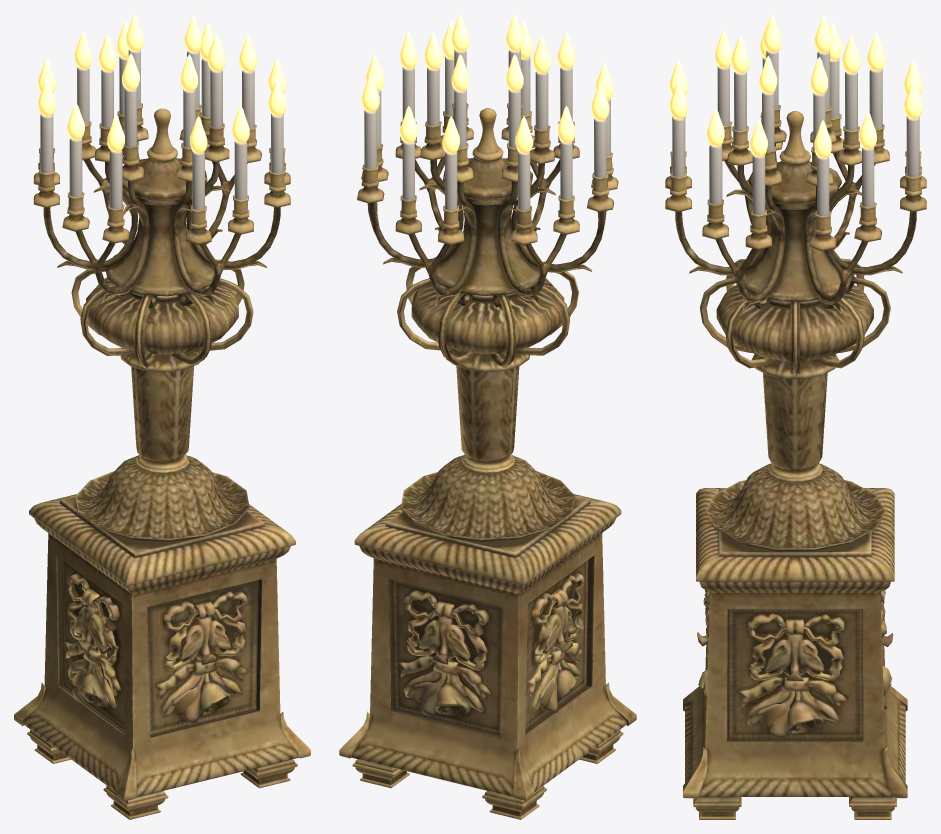
Rendered from tc-mc-titanic_lamp.glb.
The picture shows the model from 3 angles, left to right: view 1: azimuth 30°, elevation 25°; view 2: azimuth 150°, elevation 25°; view 3: azimuth 270°, elevation 25°; orthographic projection.
Parts seen in each view (by area): view 1: Cube.256; view 2: Cube.256; view 3: Cube.256.
Boxes of the visible parts, bbox=[...] form: Cube.256: bbox=[14, 14, 310, 819]; Cube.256: bbox=[339, 14, 636, 819]; Cube.256: bbox=[665, 14, 926, 819].
Bounding box in the file's own units: 34.38 × 107 × 33.99.
2 materials, 1 textured.
